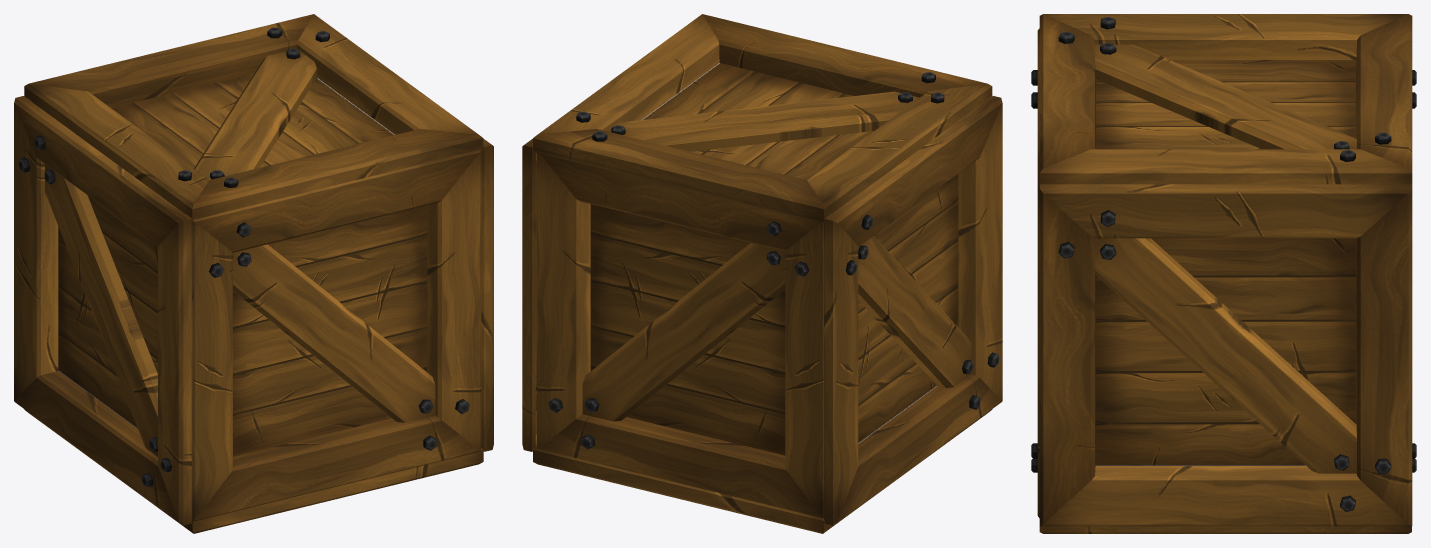
Rendered from crate.gltf.
3 views of the same model, side by side, from view 1: azimuth 30°, elevation 25°; view 2: azimuth 150°, elevation 25°; view 3: azimuth 270°, elevation 25° (orthographic). The views are drawn at different scales.
Visible parts, largest first — view 1: Create01; view 2: Create01; view 3: Create01.
Boxes of the visible parts, x1=… form: Create01: x1=14, y1=14, x2=493, y2=533; Create01: x1=522, y1=14, x2=1002, y2=533; Create01: x1=1031, y1=14, x2=1416, y2=533.
Bounding box in the file's own units: 0.7371 × 0.737 × 0.6826.
Materials: 1 (1 with a texture image).
